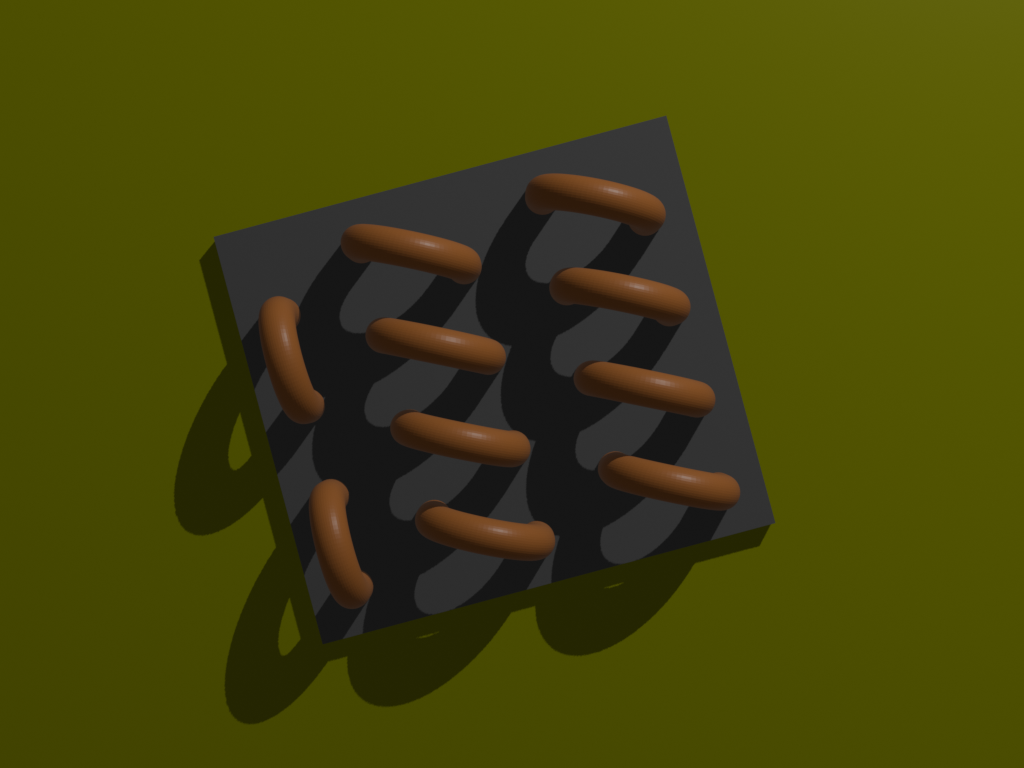return-bend: (279, 452, 386, 625), (241, 272, 348, 445), (398, 493, 567, 582), (327, 205, 496, 294), (514, 159, 682, 248), (377, 395, 546, 483), (356, 304, 525, 392), (588, 438, 756, 526), (564, 345, 732, 433), (539, 250, 707, 338)
